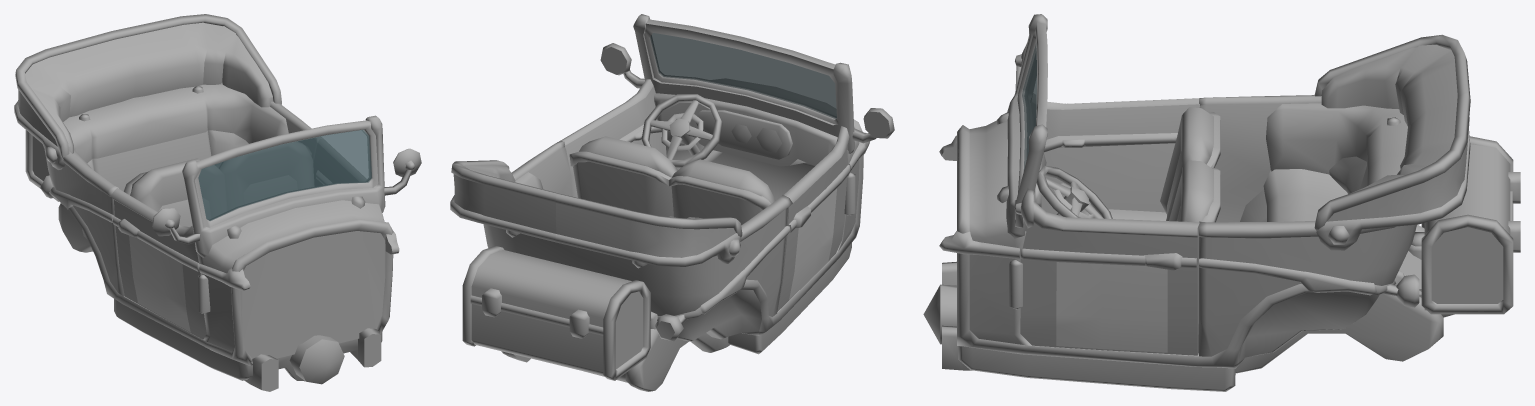
File: Body_Phaeton_Tudor_NoRoof.fbx
The picture shows the model from 3 angles, left to right: view 1: azimuth 30°, elevation 25°; view 2: azimuth 150°, elevation 25°; view 3: azimuth 270°, elevation 25°; orthographic projection. The views are drawn at different scales.
Parts seen in each view (by area): view 1: Phaeton_Tudor_NoRoof_Body, Phaeton_Tudor_NoRoof_Body_Roof_Folded, Phaeton_Tudor_NoRoof_Body_Window, Phaeton_Tudor_NoRoof_Body_Door_Right, Phaeton_Tudor_NoRoof_Body_Door_Right_Decal, Phaeton_Tudor_NoRoof_Body_Door_Left, Phaeton_Tudor_NoRoof_Rear_Box; view 2: Phaeton_Tudor_NoRoof_Body, Phaeton_Tudor_NoRoof_Rear_Box, Phaeton_Tudor_NoRoof_Body_Roof_Folded, Phaeton_Tudor_NoRoof_Body_Window, Phaeton_Tudor_NoRoof_Body_Door_Right, Phaeton_Tudor_NoRoof_Body_Door_Left, Phaeton_Tudor_NoRoof_Body_SteerWheel, Phaeton_Tudor_NoRoof_Body_Door_Right_Decal; view 3: Phaeton_Tudor_NoRoof_Body, Phaeton_Tudor_NoRoof_Body_Roof_Folded, Phaeton_Tudor_NoRoof_Body_Door_Left, Phaeton_Tudor_NoRoof_Rear_Box, Phaeton_Tudor_NoRoof_Body_Door_Right, Phaeton_Tudor_NoRoof_Body_Door_Left_Decal, Phaeton_Tudor_NoRoof_Body_SteerWheel, Phaeton_Tudor_NoRoof_Body_Window.
Boxes of the visible parts, box(x1,y1,x2,y2) form: Phaeton_Tudor_NoRoof_Body: box(40, 82, 421, 391); Phaeton_Tudor_NoRoof_Body_Roof_Folded: box(14, 14, 281, 169); Phaeton_Tudor_NoRoof_Body_Window: box(198, 129, 371, 220); Phaeton_Tudor_NoRoof_Body_Door_Right: box(110, 188, 206, 339); Phaeton_Tudor_NoRoof_Body_Door_Right_Decal: box(129, 235, 190, 331); Phaeton_Tudor_NoRoof_Body_Door_Left: box(313, 139, 366, 186); Phaeton_Tudor_NoRoof_Rear_Box: box(25, 130, 58, 201); Phaeton_Tudor_NoRoof_Body: box(483, 14, 894, 391); Phaeton_Tudor_NoRoof_Rear_Box: box(462, 246, 650, 380); Phaeton_Tudor_NoRoof_Body_Roof_Folded: box(450, 160, 742, 266); Phaeton_Tudor_NoRoof_Body_Window: box(650, 33, 836, 118); Phaeton_Tudor_NoRoof_Body_Door_Right: box(777, 126, 850, 311); Phaeton_Tudor_NoRoof_Body_Door_Left: box(559, 79, 666, 197); Phaeton_Tudor_NoRoof_Body_SteerWheel: box(641, 94, 722, 168); Phaeton_Tudor_NoRoof_Body_Door_Right_Decal: box(789, 188, 836, 299); Phaeton_Tudor_NoRoof_Body: box(923, 14, 1443, 391); Phaeton_Tudor_NoRoof_Body_Roof_Folded: box(1314, 34, 1470, 250); Phaeton_Tudor_NoRoof_Body_Door_Left: box(1020, 201, 1199, 355); Phaeton_Tudor_NoRoof_Rear_Box: box(1419, 136, 1520, 317); Phaeton_Tudor_NoRoof_Body_Door_Right: box(1031, 93, 1199, 214); Phaeton_Tudor_NoRoof_Body_Door_Left_Decal: box(1056, 262, 1167, 352); Phaeton_Tudor_NoRoof_Body_SteerWheel: box(1036, 165, 1112, 218); Phaeton_Tudor_NoRoof_Body_Window: box(1022, 44, 1036, 170).
Size of the model in its own units: 202 by 160 by 309.
